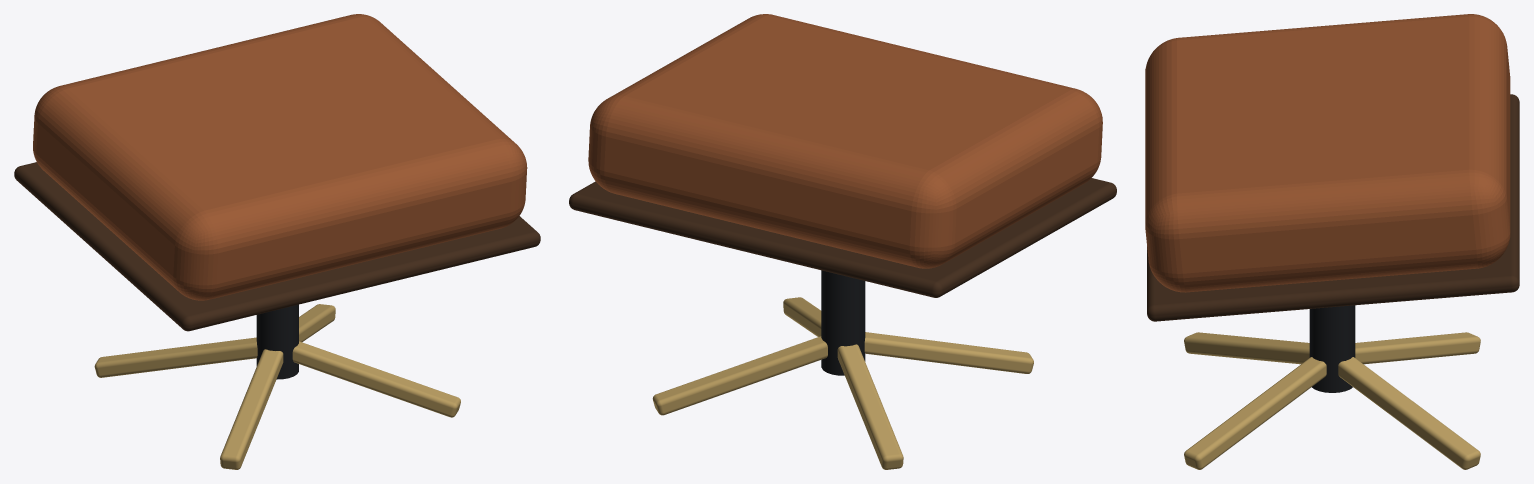
Rendered from atelier-ottoman-molded-cognac.glb.
3 renders of one model, left to right at view 1: azimuth 30°, elevation 25°; view 2: azimuth 150°, elevation 25°; view 3: azimuth 270°, elevation 25°, orthographic. The views are drawn at different scales.
Bounding box in the file's own units: 0.5448 × 0.4292 × 0.4603.
